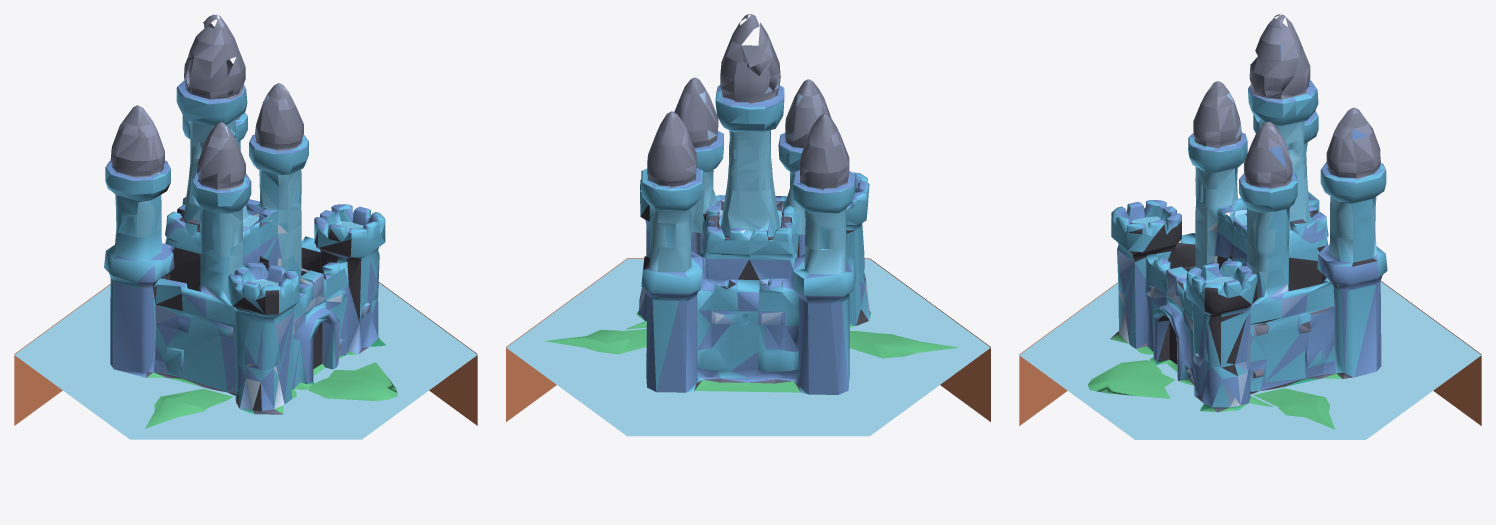
The model's file is raindrop-castle.glb.
The picture shows the model from 3 angles, left to right: view 1: azimuth 30°, elevation 25°; view 2: azimuth 150°, elevation 25°; view 3: azimuth 270°, elevation 25°; orthographic projection. The views are drawn at different scales.
Visible parts, largest first — view 1: recentre, hexBase; view 2: recentre, hexBase; view 3: recentre, hexBase.
Part boxes in pixels (x1,y1,x2,y2): recentre: (104, 14, 398, 428); hexBase: (14, 282, 477, 439); recentre: (544, 14, 958, 394); hexBase: (506, 258, 990, 436); recentre: (1088, 14, 1387, 429); hexBase: (1019, 281, 1481, 439).
Size of the model in its own units: 1 by 1.11 by 1.15.
Materials: 3 (3 with a texture image).
